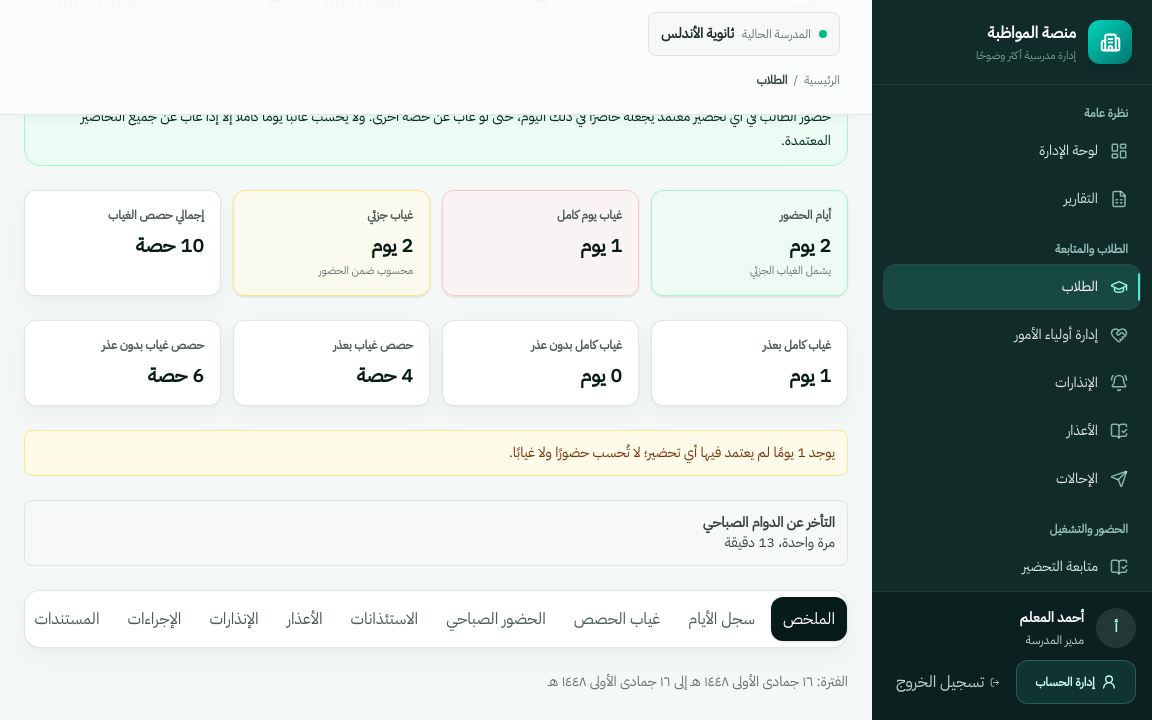
Test case: student attendance profile (Phase 9) › morning tab lists arrivals from SchoolArrival history
The width and height of the screenshot is (1152, 720).
(page scrolled)
Click the button "الحضور الصباحي": click(496, 619) [434,597,558,641]
(page scrolled)
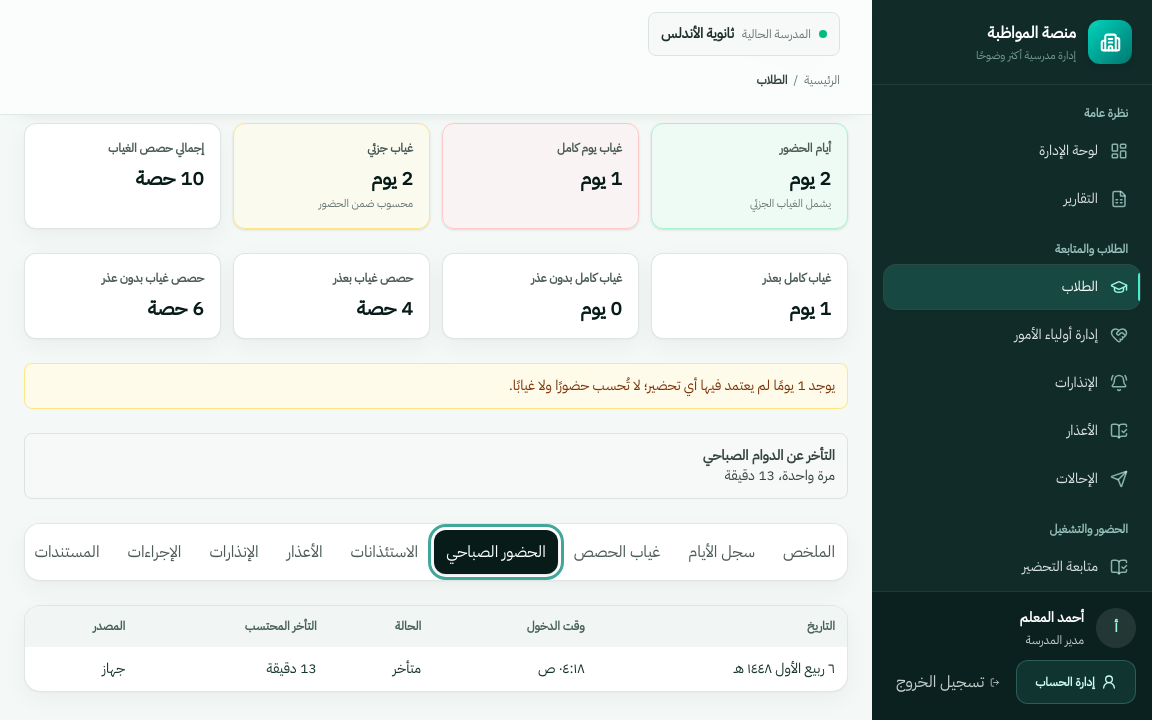
Expected: the text "جهاز" is shown, [25,647,137,691]
Expected: the table shows "13 دقيقة", [25,606,847,691]
Expected: the table shows "متأخر", [393,658,421,679]
